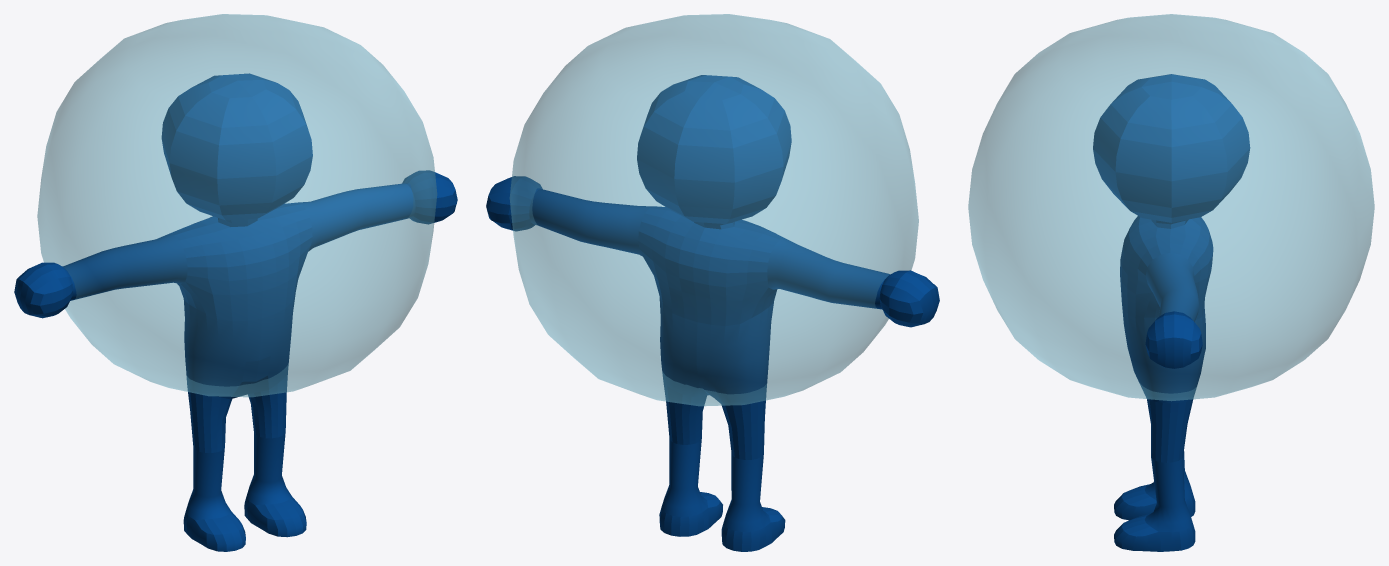
File: PlayerWithBubble.fbx
3 renders of one model, left to right at view 1: azimuth 30°, elevation 25°; view 2: azimuth 150°, elevation 25°; view 3: azimuth 270°, elevation 25°, orthographic. The views are drawn at different scales.
Parts seen in each view (by area): view 1: Bubble, Player; view 2: Bubble, Player; view 3: Bubble, Player.
Boxes of the visible parts, x1=… form: Bubble: x1=37, y1=14, x2=437, y2=397; Player: x1=14, y1=73, x2=457, y2=551; Bubble: x1=509, y1=14, x2=918, y2=406; Player: x1=486, y1=75, x2=939, y2=551; Bubble: x1=968, y1=14, x2=1374, y2=401; Player: x1=1093, y1=74, x2=1250, y2=551.
Bounding box in the file's own units: 85.52 × 90.91 × 69.11.
